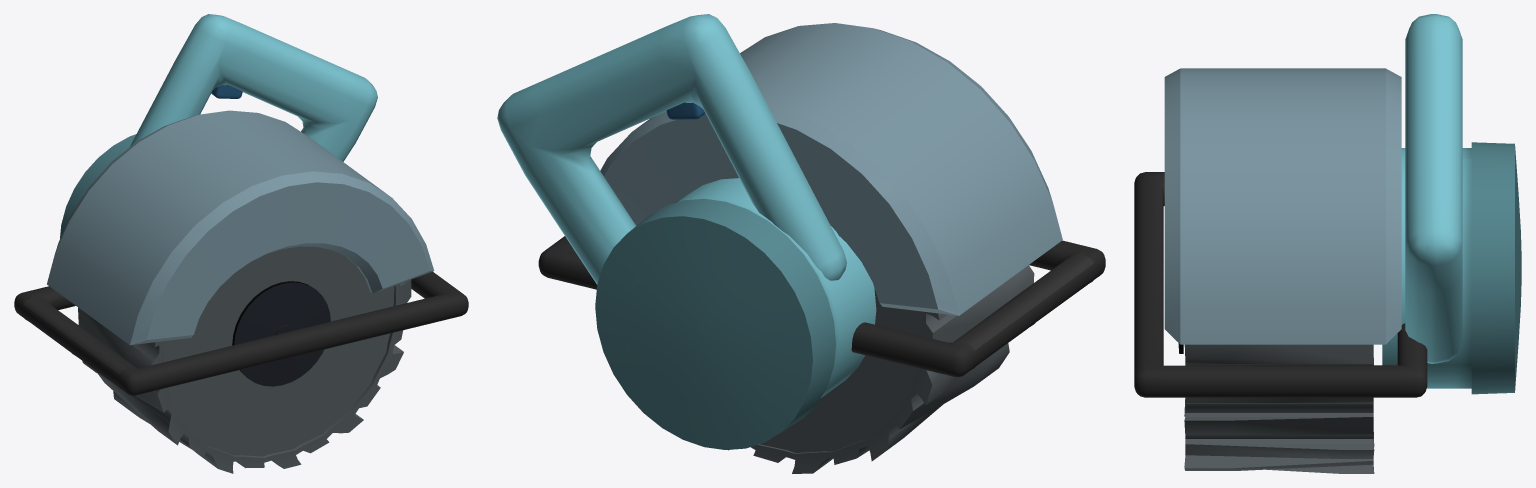
Rendered from circular_saw2-2.fbx.
3 views of the same model, side by side, from view 1: azimuth 30°, elevation 25°; view 2: azimuth 150°, elevation 25°; view 3: azimuth 270°, elevation 25° (orthographic). The views are drawn at different scales.
Visible parts, largest first — view 1: Cylinder.008; view 2: Cylinder.008; view 3: Cylinder.008.
Boxes of the visible parts, x1,y1,x2,y2 form: Cylinder.008: (14,14,468,473); Cylinder.008: (497,14,1105,473); Cylinder.008: (1134,14,1521,473).
Bounding box in the file's own units: 226 × 220 × 168.
